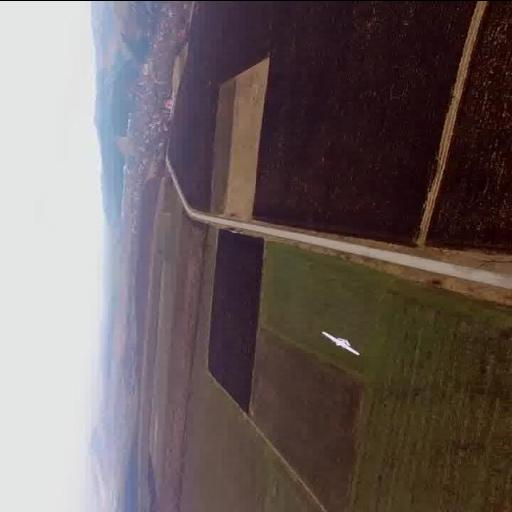uav: (316, 324, 370, 358)
